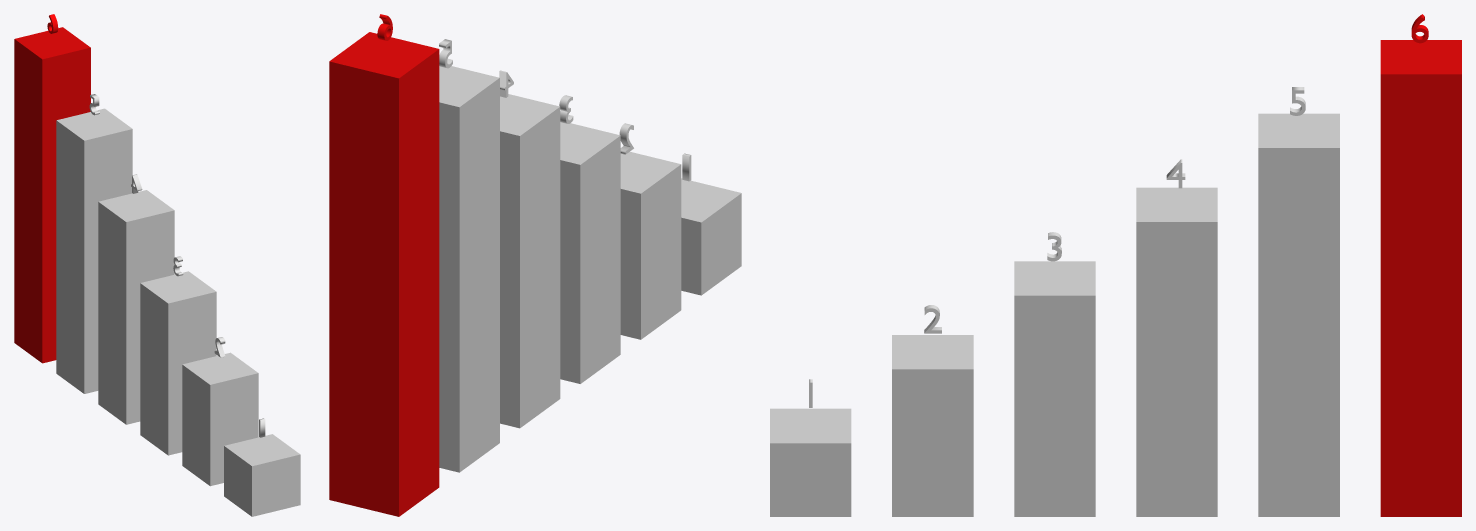
The model's file is BalkendiagrammMesh.glb.
3 renders of one model, left to right at view 1: azimuth 30°, elevation 25°; view 2: azimuth 150°, elevation 25°; view 3: azimuth 270°, elevation 25°, orthographic. The views are drawn at different scales.
Parts seen in each view (by area): view 1: Cube.006, Cube.005, Cube.004, Cube.003, Cube.002, Cube; view 2: Cube.006, Cube.005, Cube.004, Cube.003, Cube.002, Cube; view 3: Cube.006, Cube.005, Cube.004, Cube.003, Cube.002, Cube.
Part boxes in pixels (x1,y1,x2,y2): Cube.006: [14, 27, 90, 363]; Cube.005: [56, 108, 132, 393]; Cube.004: [98, 190, 174, 424]; Cube.003: [140, 271, 216, 455]; Cube.002: [182, 352, 258, 486]; Cube: [224, 434, 300, 516]; Cube.006: [329, 32, 439, 516]; Cube.005: [439, 66, 499, 472]; Cube.004: [500, 94, 560, 428]; Cube.003: [560, 122, 620, 383]; Cube.002: [620, 151, 681, 339]; Cube: [681, 178, 741, 295]; Cube.006: [1380, 40, 1461, 516]; Cube.005: [1258, 113, 1339, 516]; Cube.004: [1136, 187, 1217, 516]; Cube.003: [1014, 261, 1095, 516]; Cube.002: [892, 335, 973, 516]; Cube: [770, 408, 851, 516].
Size of the model in its own units: 2 by 13.12 by 17.
